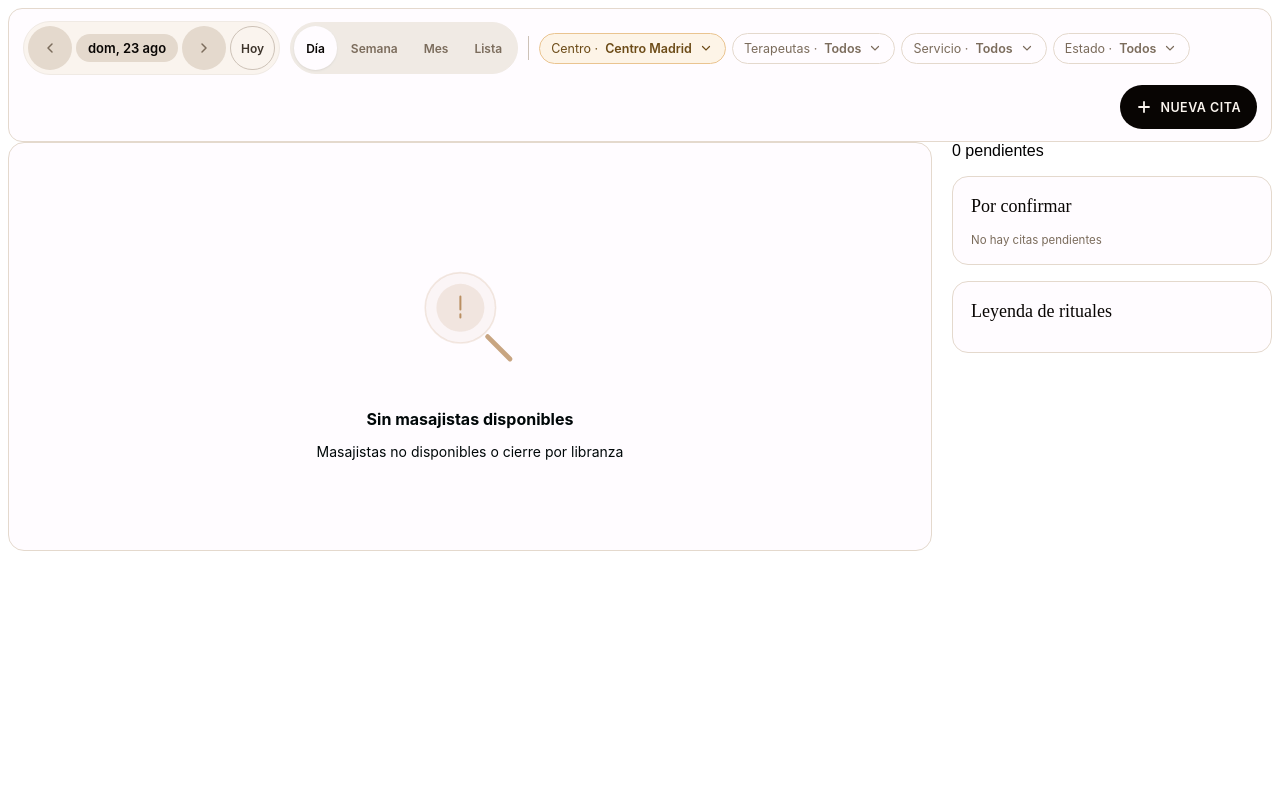
Test: AdminAgendaView — week mode renders the folder › switching to week mode shows a folder for the overlapping pair
Click the button "Semana": click(374, 48) [339,26,410,70]
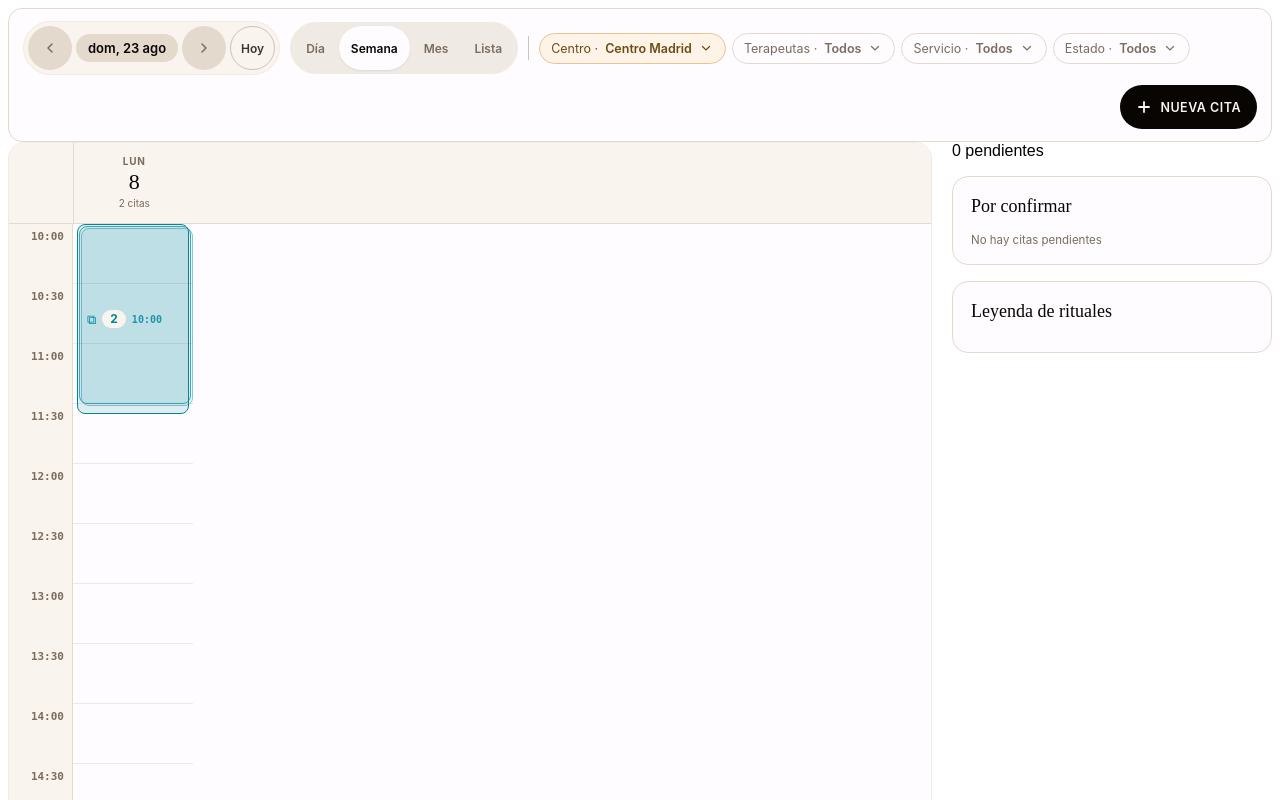
Check: the button named "Grupo de 2 citas, 10:00–11:30" is shown, box [77,224,189,414]
